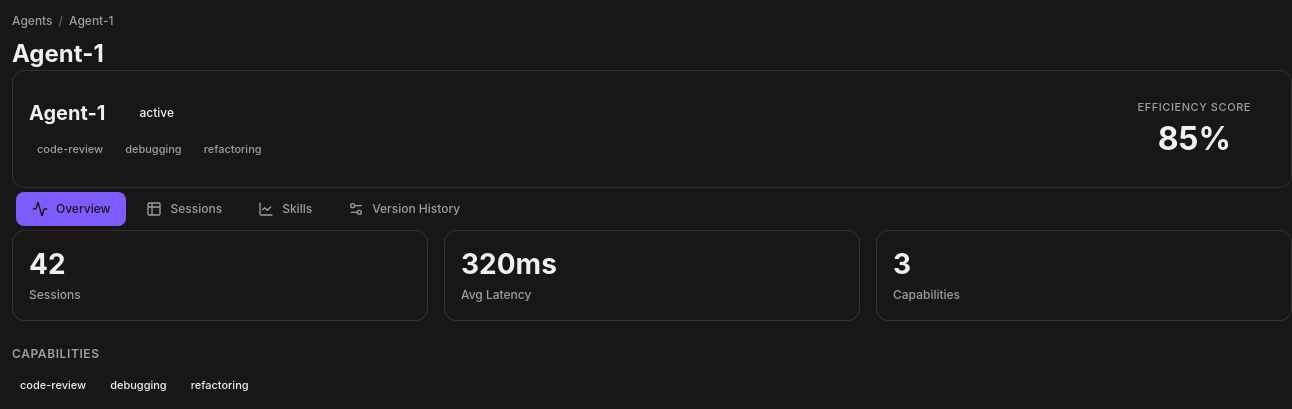
Test case: AgentDetailPage › switches to Version History tab and shows config table
Click the tab "Version History" at [404, 209], box [332,192,476,226]
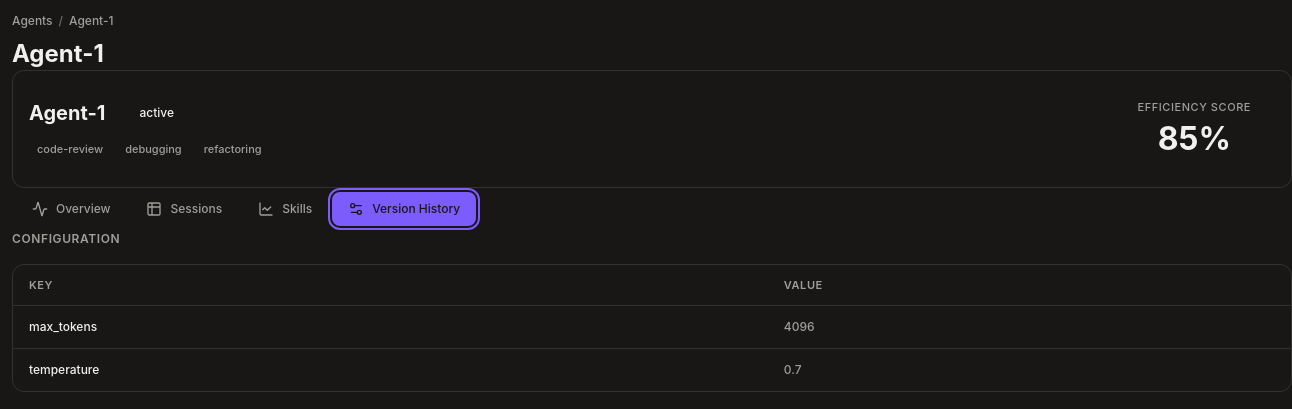
Check: the heading "Configuration" is shown, box [12,231,120,246]
